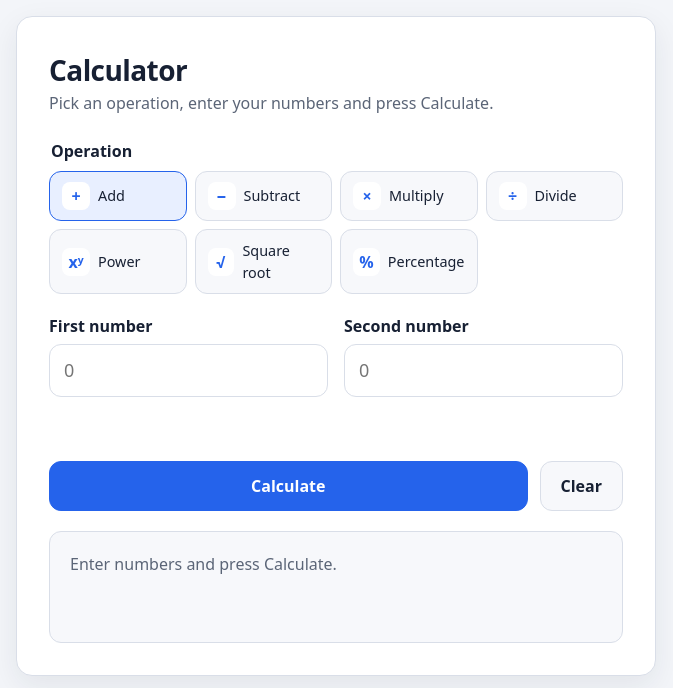
Test case: Calculator › tells the user when the service is unreachable
Type "1" into the field labelled "First number".
click(188, 371); type("1")  # box [49,344,328,397]
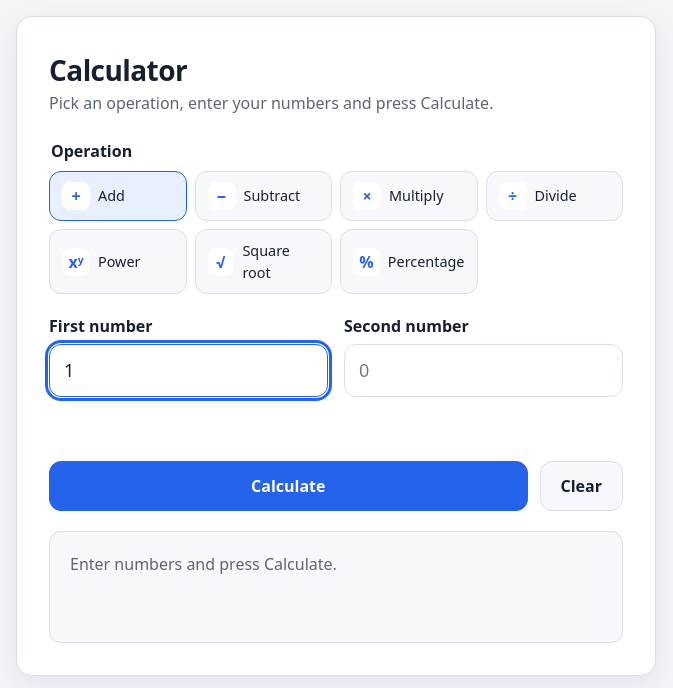
Type "1" into the field labelled "Second number".
click(484, 371); type("1")  # box [344,344,623,397]
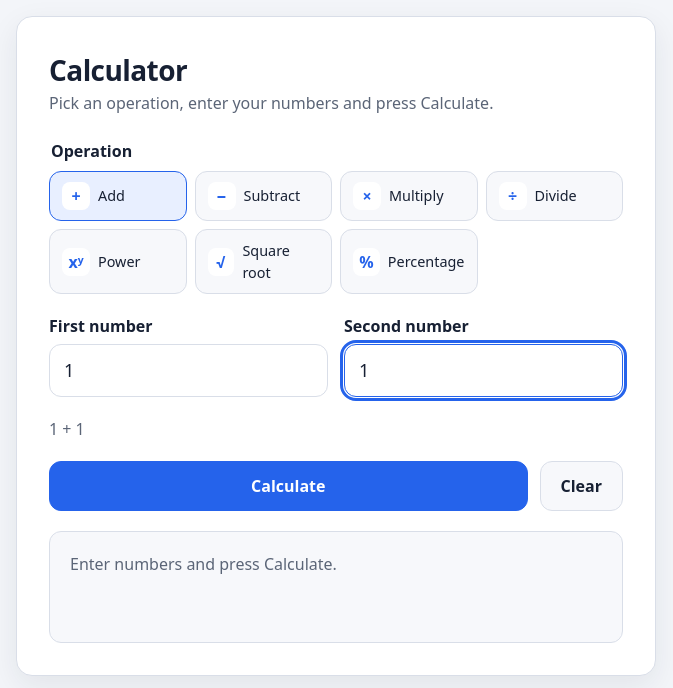
Click the button "Calculate".
click(288, 486)  # box [49,461,528,511]
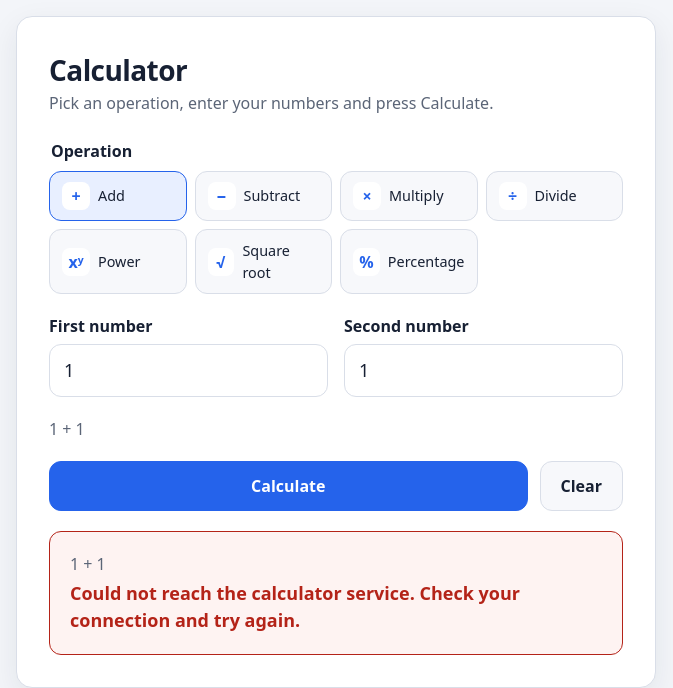
Check: the message shows "Could not reach the calculator service", box [70,581,520,632]
